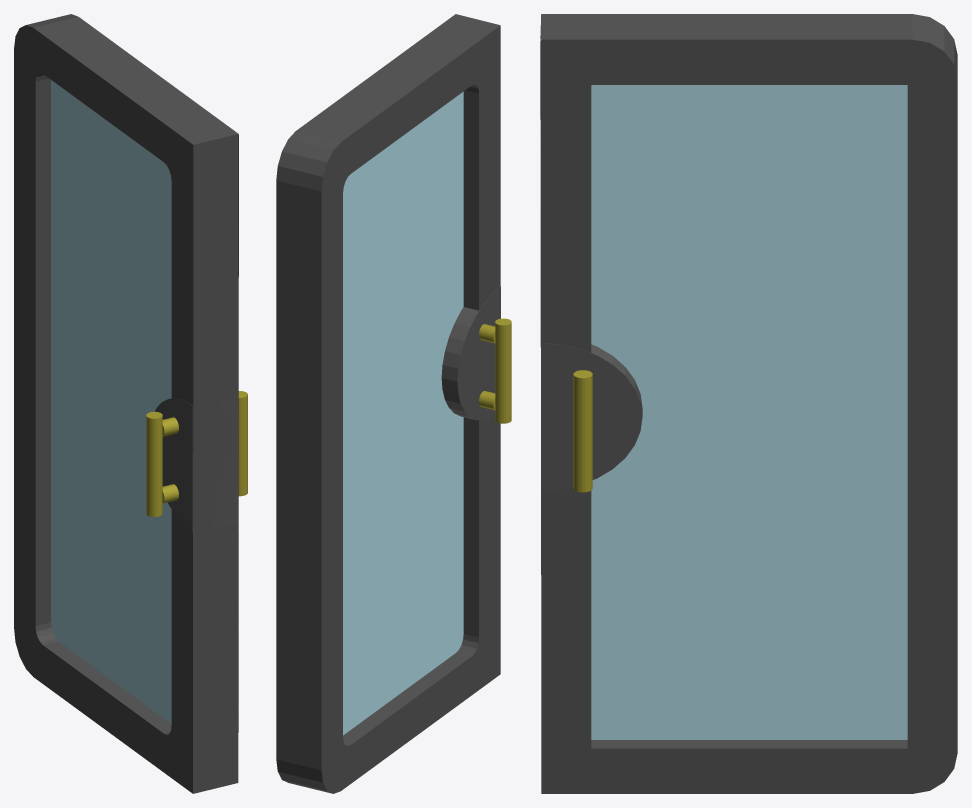
Rendered from Kapı sol.fbx.
The picture shows the model from 3 angles, left to right: view 1: azimuth 30°, elevation 25°; view 2: azimuth 150°, elevation 25°; view 3: azimuth 270°, elevation 25°; orthographic projection. The views are drawn at different scales.
Visible parts, largest first — view 1: Cube.002; view 2: Cube.002; view 3: Cube.002.
Boxes of the visible parts, box(x1,y1,x2,y2) form: Cube.002: box(14, 14, 247, 793); Cube.002: box(276, 14, 511, 793); Cube.002: box(540, 14, 957, 793).
Bounding box in the file's own units: 32.11 × 200 × 100.
